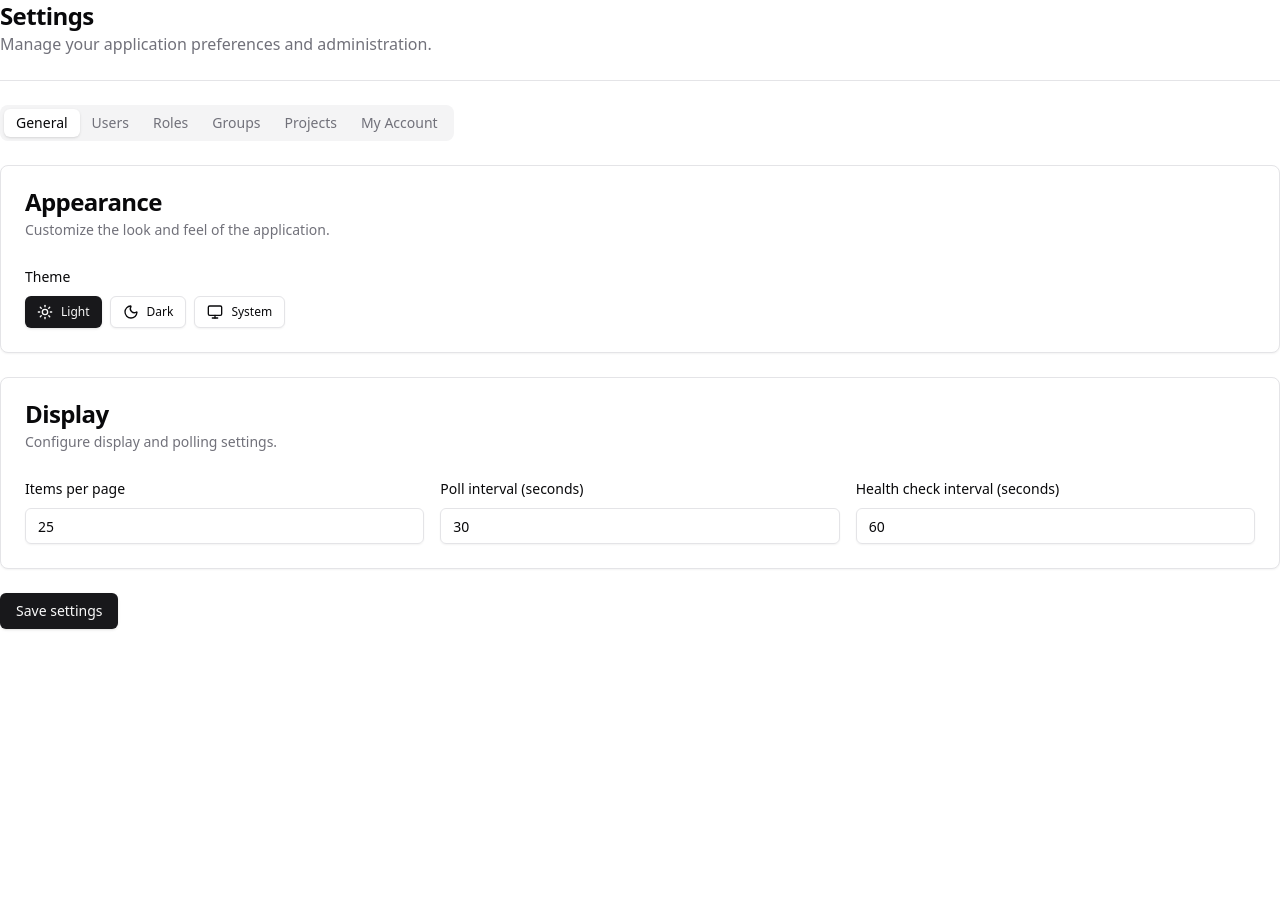
Test: SettingsPage › opens Add User dialog from Users tab
What coordinates should you click on to do the following:
click the tab "Users"
I would click on:
 (110, 123)
Its box is left=80, top=109, right=141, bottom=137.
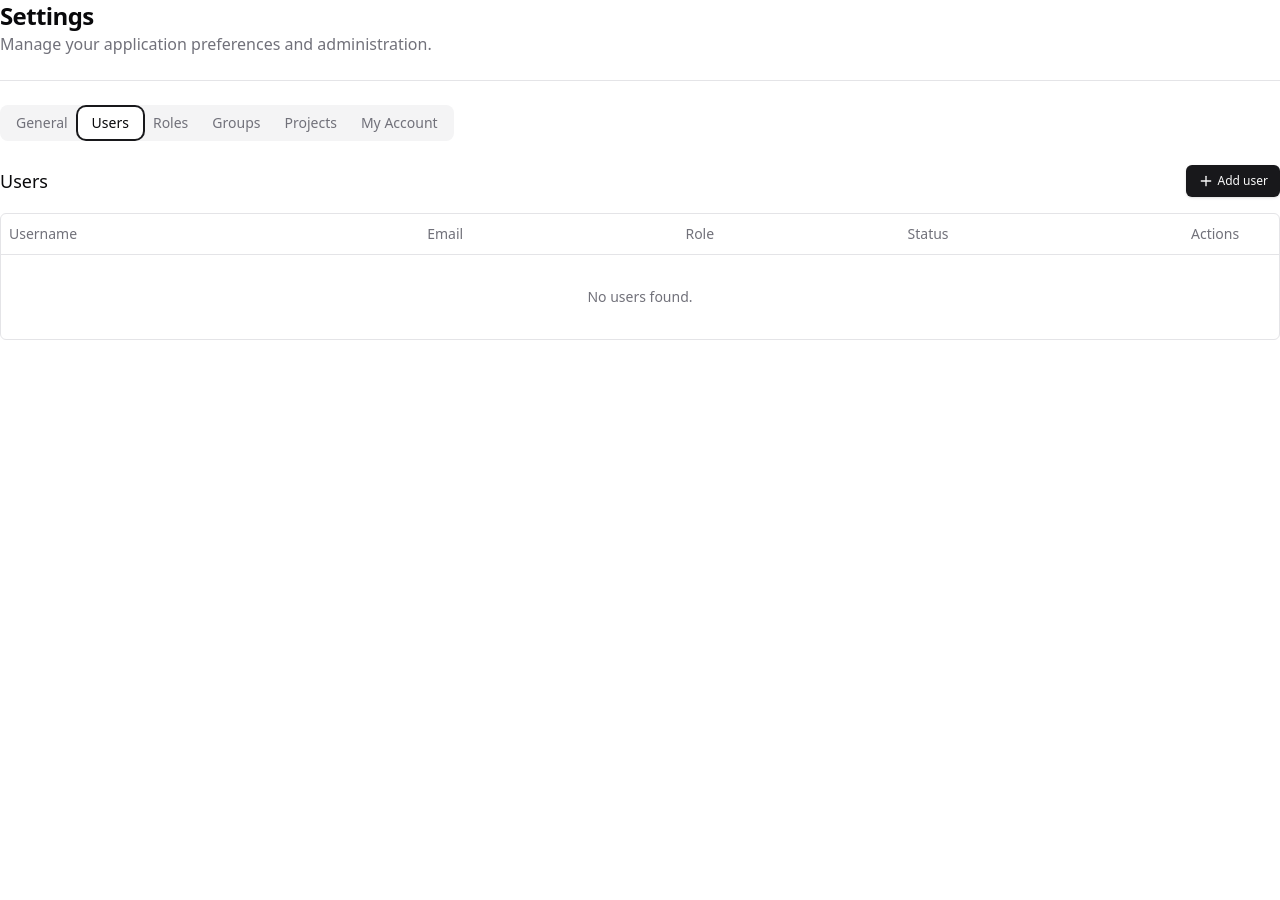
Now the button "Add user" is shown
What coordinates should you click on to do the following:
click the button "Add user"
I would click on:
 (1233, 181)
Its box is left=1186, top=165, right=1279, bottom=197.
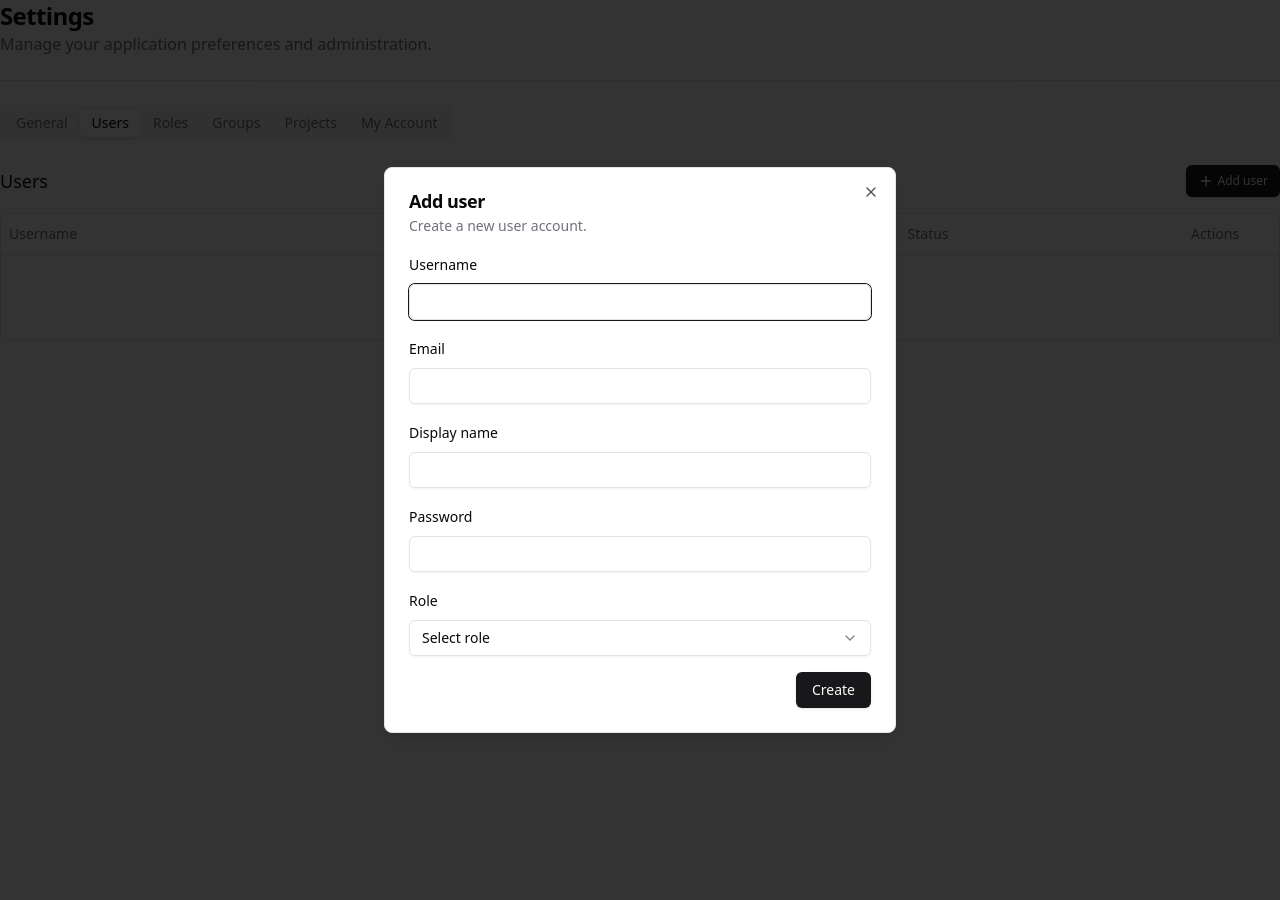
Now the dialog is shown, box left=384, top=167, right=896, bottom=733
